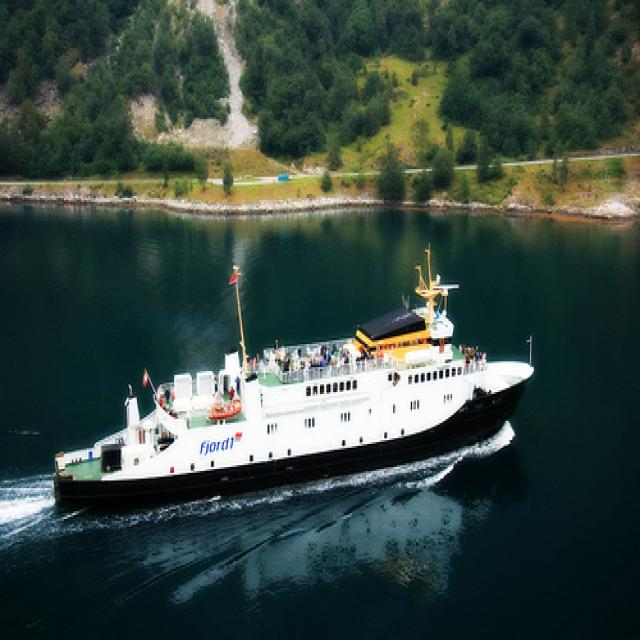boat: (52, 241, 544, 520)
